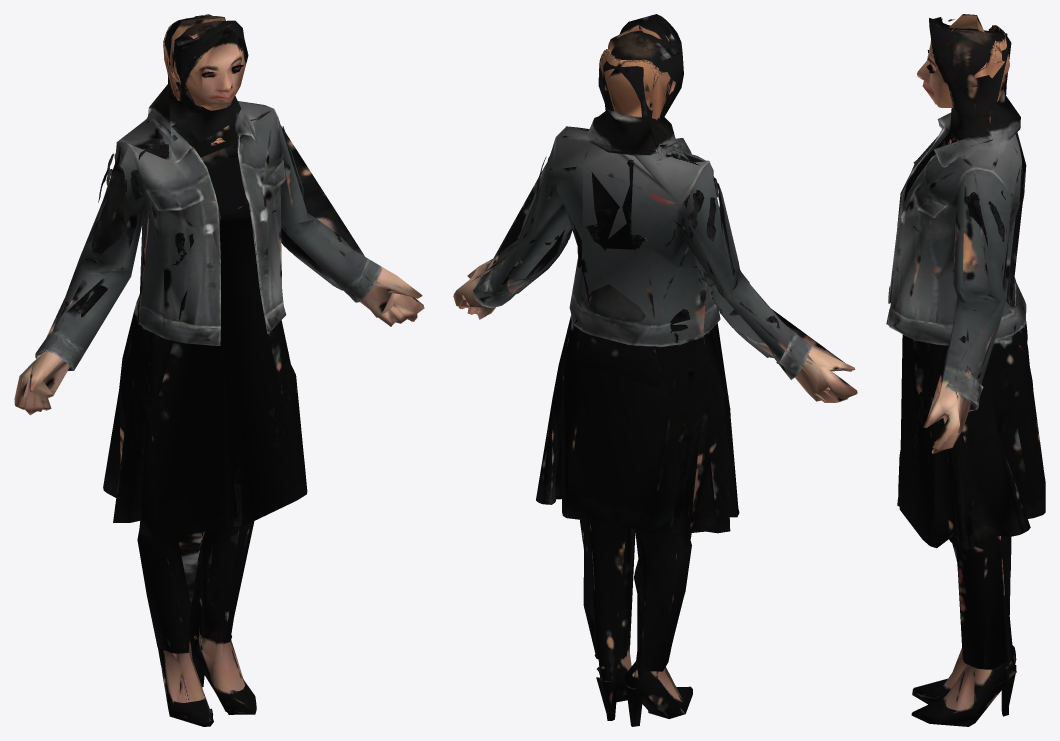
The model's file is char_hijab.glb.
3 renders of one model, left to right at view 1: azimuth 30°, elevation 25°; view 2: azimuth 150°, elevation 25°; view 3: azimuth 270°, elevation 25°, orthographic.
Parts seen in each view (by area): view 1: world; view 2: world; view 3: world.
Part boxes in pixels (left/top/right/bottom): world: left=14, top=14, right=424, bottom=726; world: left=453, top=14, right=857, bottom=726; world: left=886, top=14, right=1045, bottom=726.
Bounding box in the file's own units: 0.6171 × 0.9978 × 0.2084.
Materials: 1 (1 with a texture image).
